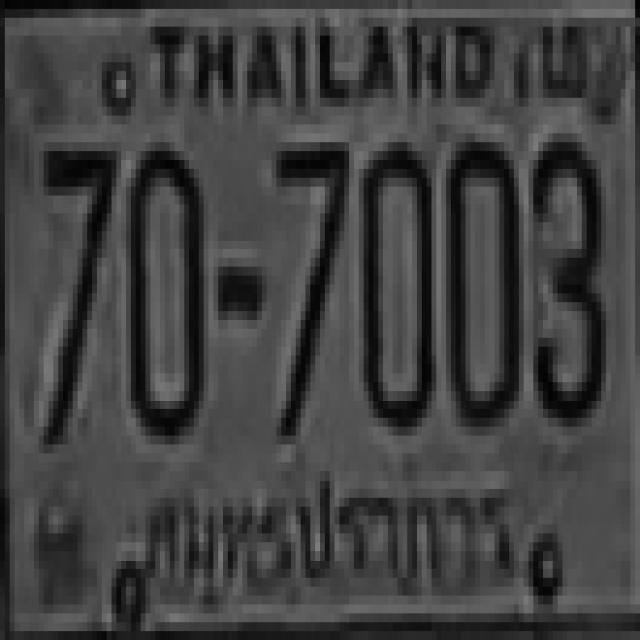0: (126, 134, 199, 436), (359, 133, 431, 427), (444, 133, 516, 418)
3: (529, 124, 601, 418)
7: (272, 134, 344, 436), (39, 142, 111, 436)
SamutPrakan: (146, 476, 526, 598)
